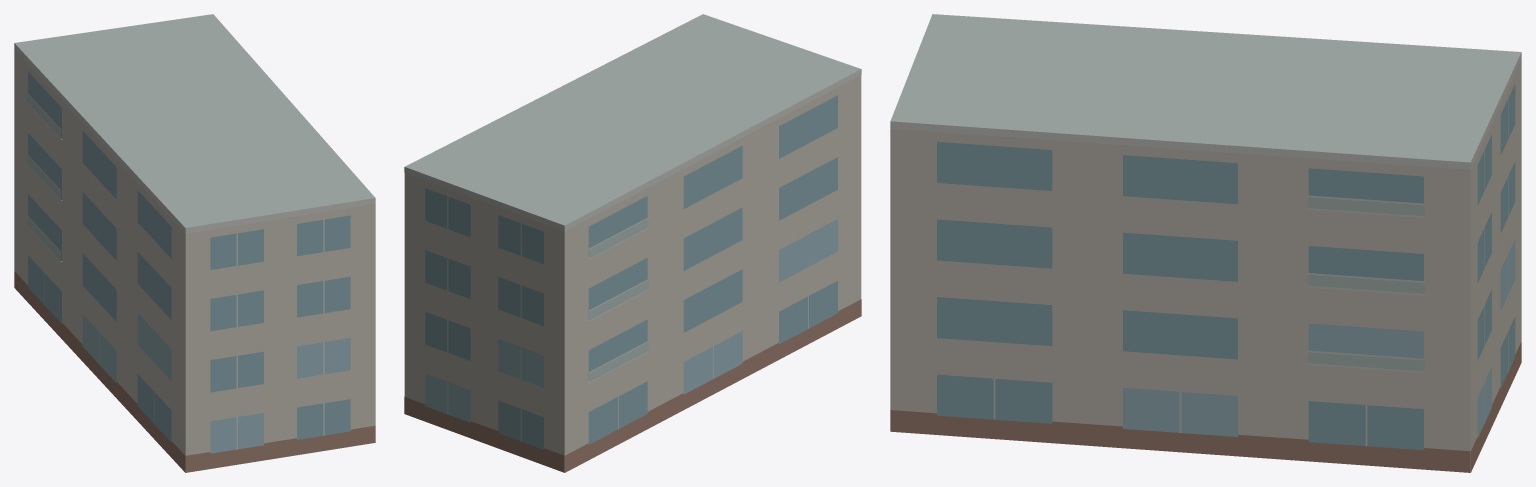
File: survey-upis-32698408.glb
3 renders of one model, left to right at view 1: azimuth 30°, elevation 25°; view 2: azimuth 150°, elevation 25°; view 3: azimuth 270°, elevation 25°, orthographic. The views are drawn at different scales.
Parts seen in each view (by area): view 1: survey-upis-32698408.tmp; view 2: survey-upis-32698408.tmp; view 3: survey-upis-32698408.tmp.
Boxes of the visible parts, x1,y1,x2,y2 form: survey-upis-32698408.tmp: (14, 14, 375, 472); survey-upis-32698408.tmp: (404, 14, 861, 472); survey-upis-32698408.tmp: (890, 14, 1521, 472).
Bounding box in the file's own units: 10.79 × 10.5 × 19.37.
